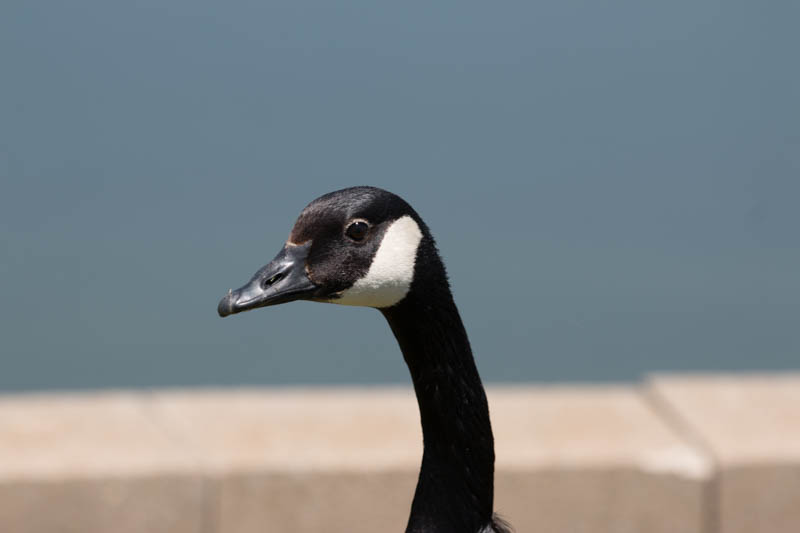goose-head: (216, 184, 450, 318)
